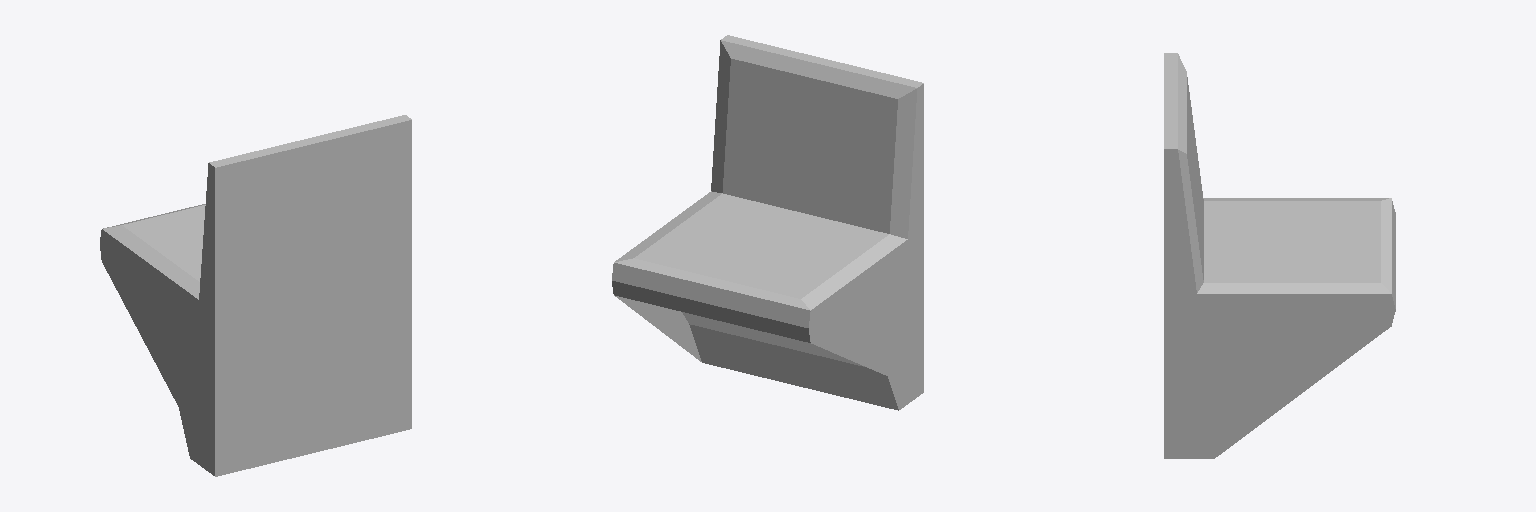
File: seat.obj
3 views of the same model, side by side, from view 1: azimuth 30°, elevation 25°; view 2: azimuth 150°, elevation 25°; view 3: azimuth 270°, elevation 25° (orthographic).
Visible parts, largest first — view 1: Cube; view 2: Cube; view 3: Cube.
Boxes of the visible parts, x1=… form: Cube: x1=100, y1=115, x2=411, y2=476; Cube: x1=612, y1=35, x2=923, y2=410; Cube: x1=1164, y1=53, x2=1395, y2=458.
Size of the model in its own units: 0.5 by 0.75 by 0.5095.